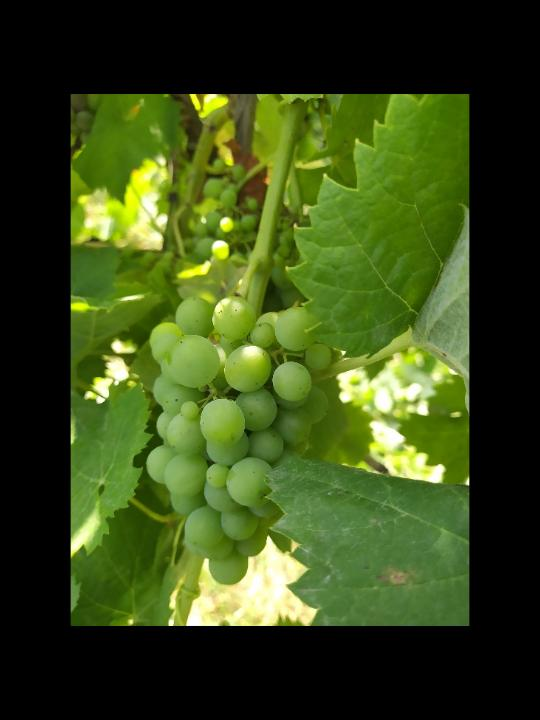grape: (144, 293, 330, 587)
